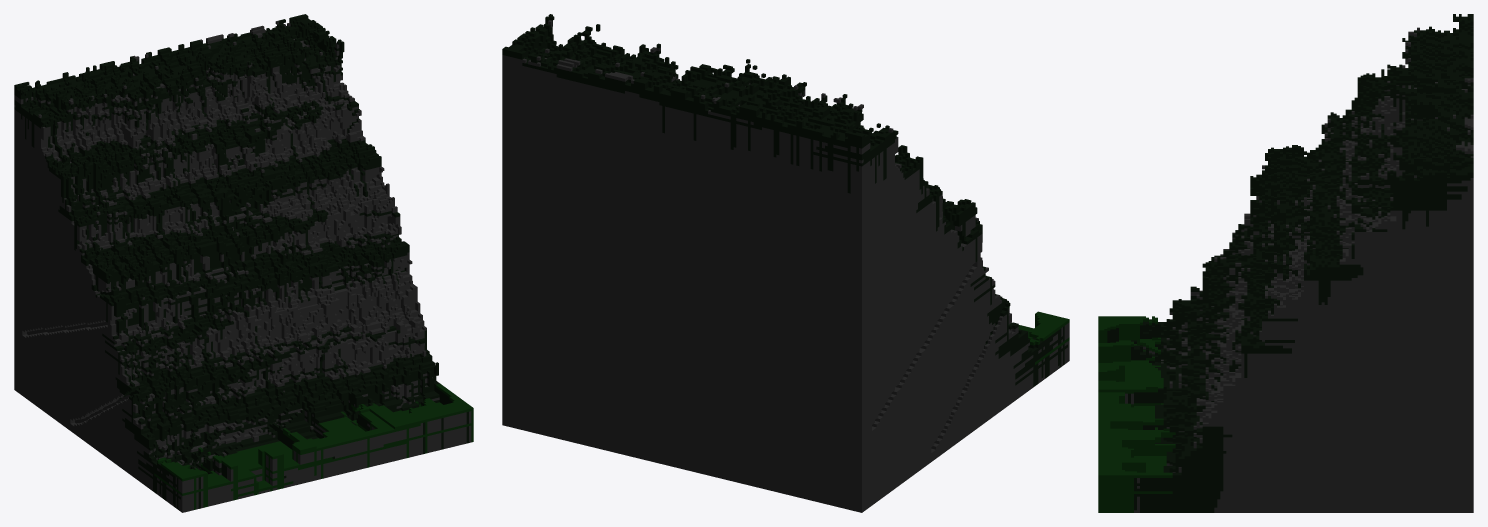
The model's file is map-53.obj.
3 views of the same model, side by side, from view 1: azimuth 30°, elevation 25°; view 2: azimuth 150°, elevation 25°; view 3: azimuth 270°, elevation 25° (orthographic). The views are drawn at different scales.
Visible parts, largest first — view 1: map-53; view 2: map-53; view 3: map-53.
Boxes of the visible parts, left/top/right/bottom form: map-53: left=14, top=14, right=473, bottom=512; map-53: left=502, top=14, right=1069, bottom=512; map-53: left=1098, top=14, right=1473, bottom=512.
Bounding box in the file's own units: 126 × 126 × 126.
Materials: 1 (1 with a texture image).
